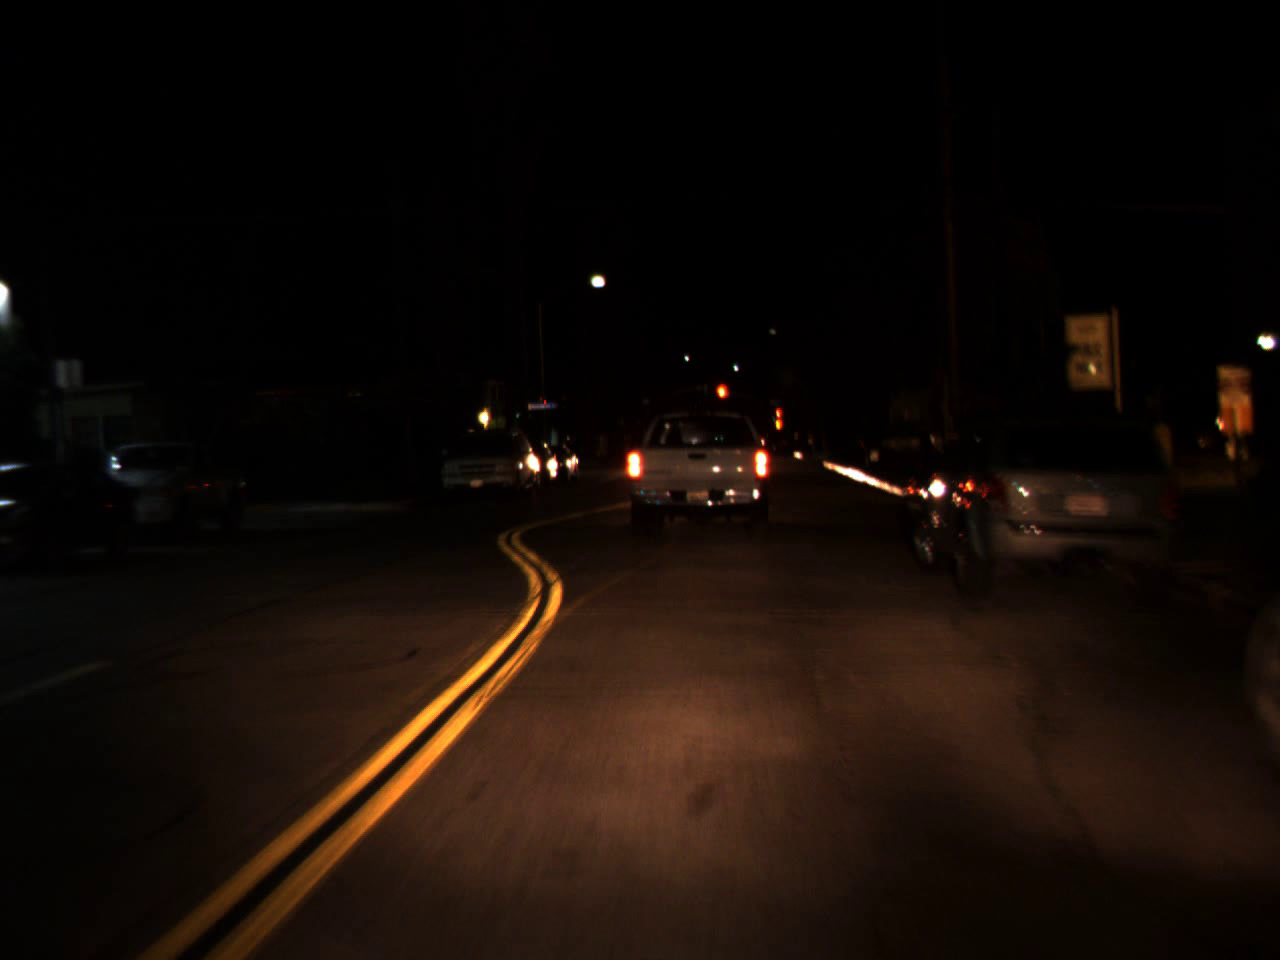stop: (714, 383, 729, 415), (771, 405, 784, 434)
